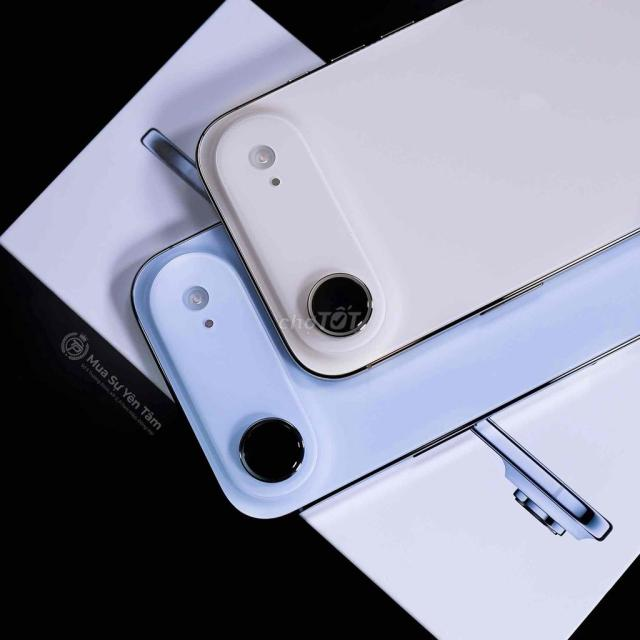gen_17: (503, 143, 640, 190)
